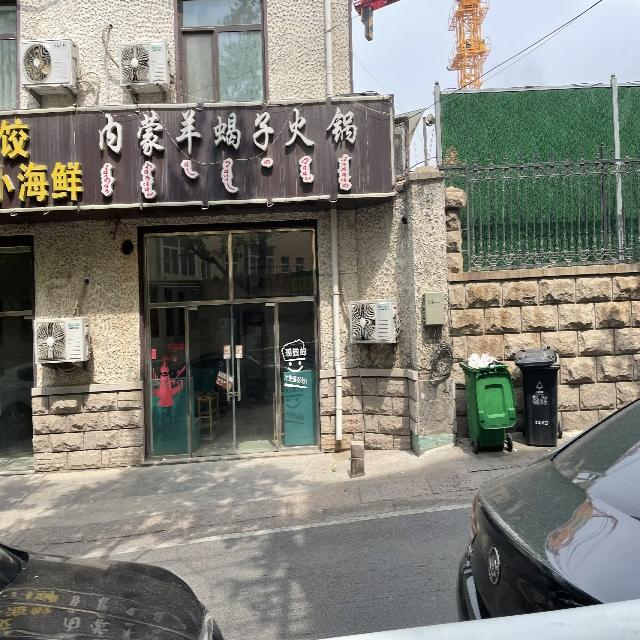garbage_bin: (514, 348, 560, 446)
overflow: (457, 351, 516, 447)
